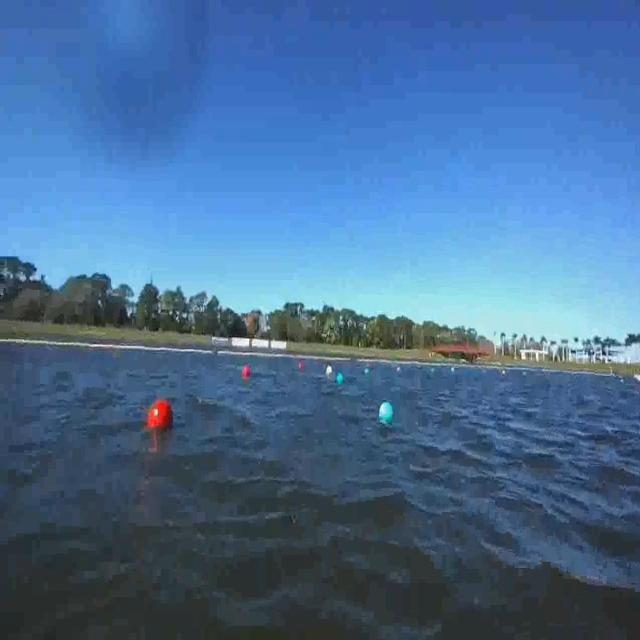green-buoy: (379, 402, 394, 426), (338, 373, 345, 385)
red-buoy: (149, 400, 176, 432), (240, 364, 248, 378)
yellow-buoy: (328, 364, 334, 376)
